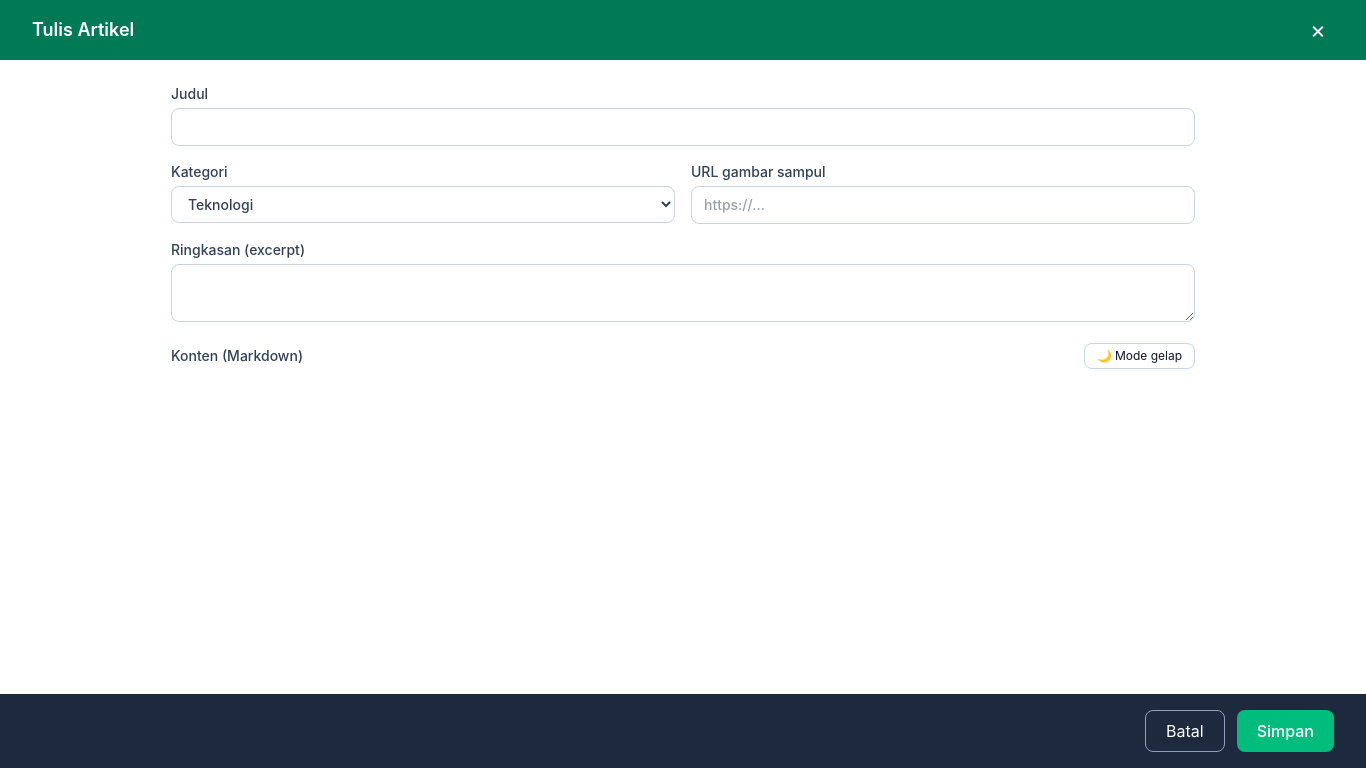
Test: PostModal › validasi judul dan konten
Click the button "Simpan": click(1285, 731) [1237,710,1334,752]
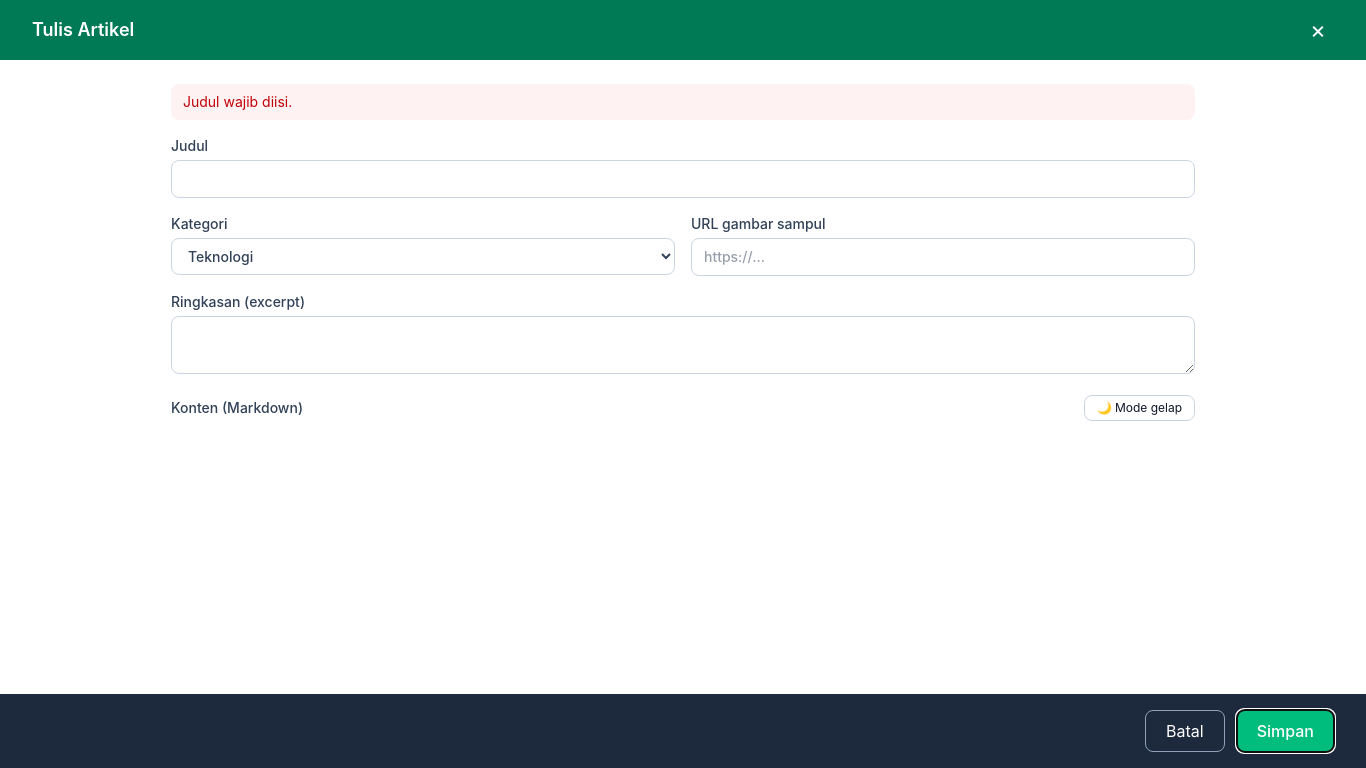
Expected: the message reads "Judul wajib diisi.", [183,93,292,110]
In the field labelled "Judul": (683, 179) [171,160,1195,198], type "Judul"
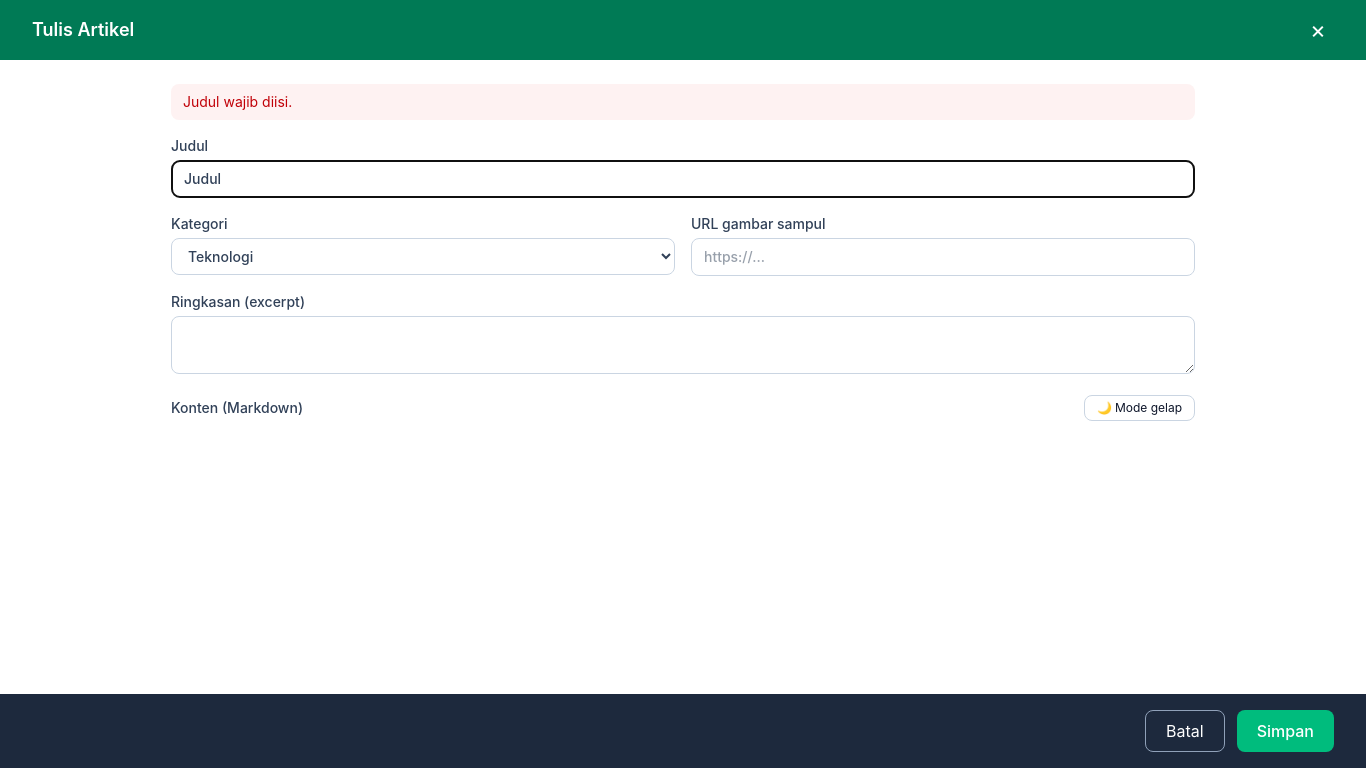
Click the button "Simpan": click(1285, 731) [1237,710,1334,752]
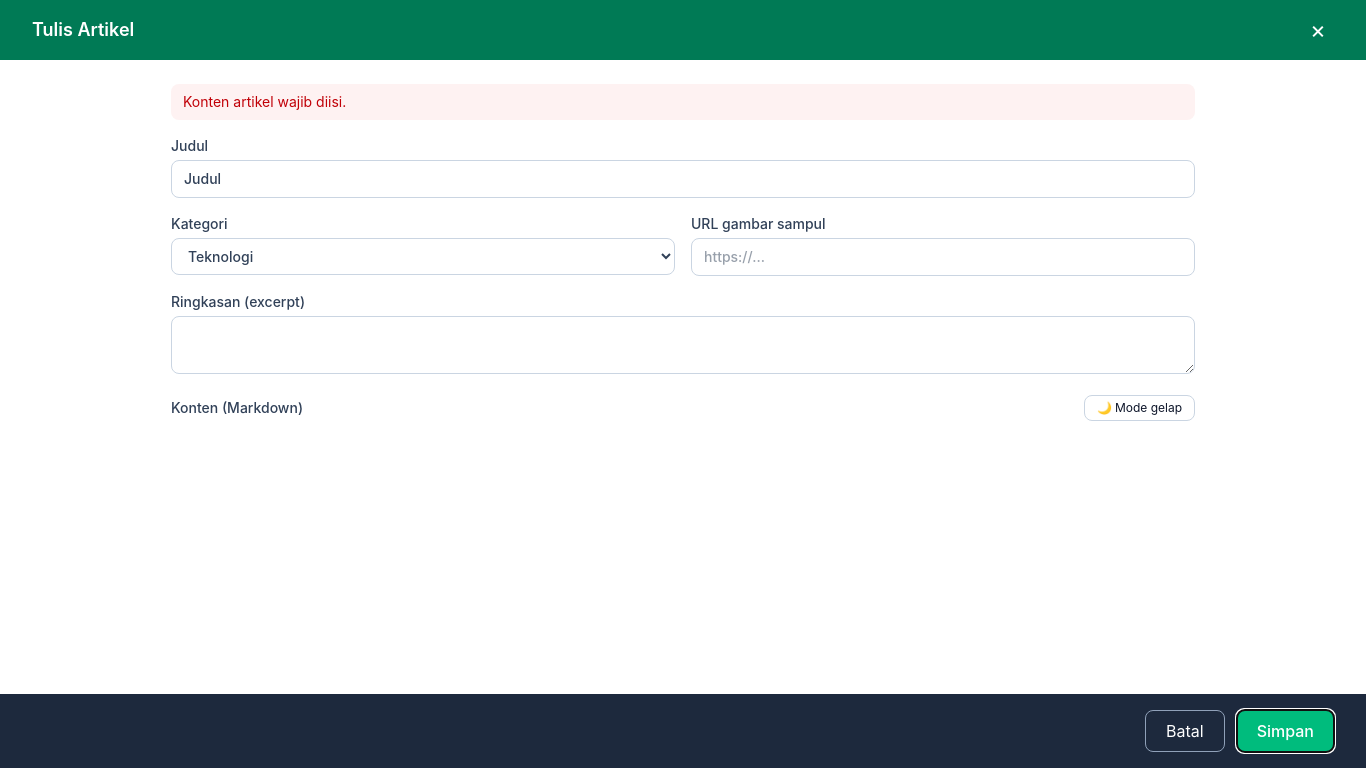
Expected: the message reads "Konten artikel wajib diisi.", [183,93,346,110]
